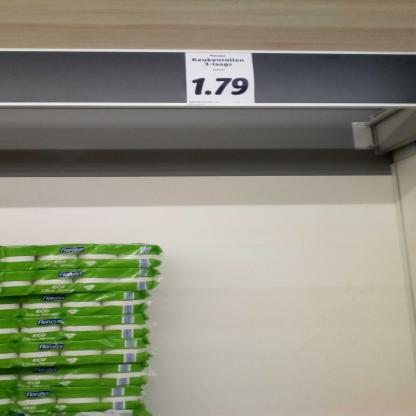prtg: (186, 53, 256, 104)
